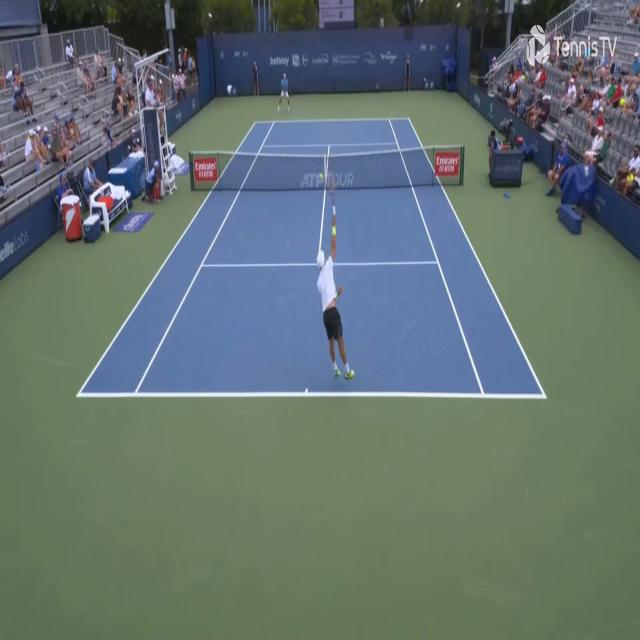tennis-player: (316, 197, 356, 383), (276, 70, 292, 113)
